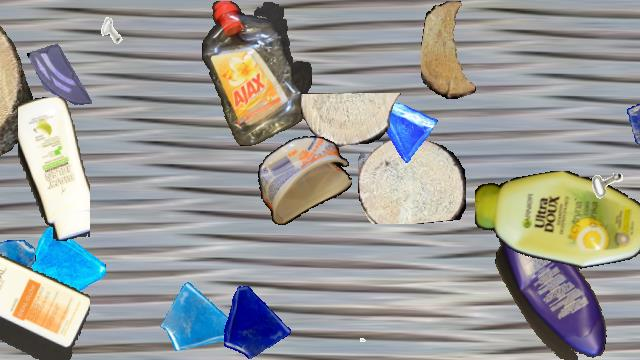glass: (12, 225, 106, 319), (160, 279, 240, 359), (215, 281, 293, 359), (368, 94, 438, 164), (26, 38, 96, 108), (0, 240, 36, 300), (627, 96, 640, 152)
metal: (571, 143, 631, 203), (93, 12, 131, 50), (335, 311, 373, 349), (631, 242, 640, 298)
plastic: (492, 217, 612, 359), (475, 171, 640, 271), (201, 1, 311, 145), (18, 97, 90, 241), (0, 247, 90, 359), (258, 136, 352, 226)
wood: (358, 136, 466, 224), (421, 1, 481, 99), (301, 93, 401, 147), (0, 1, 32, 169)
